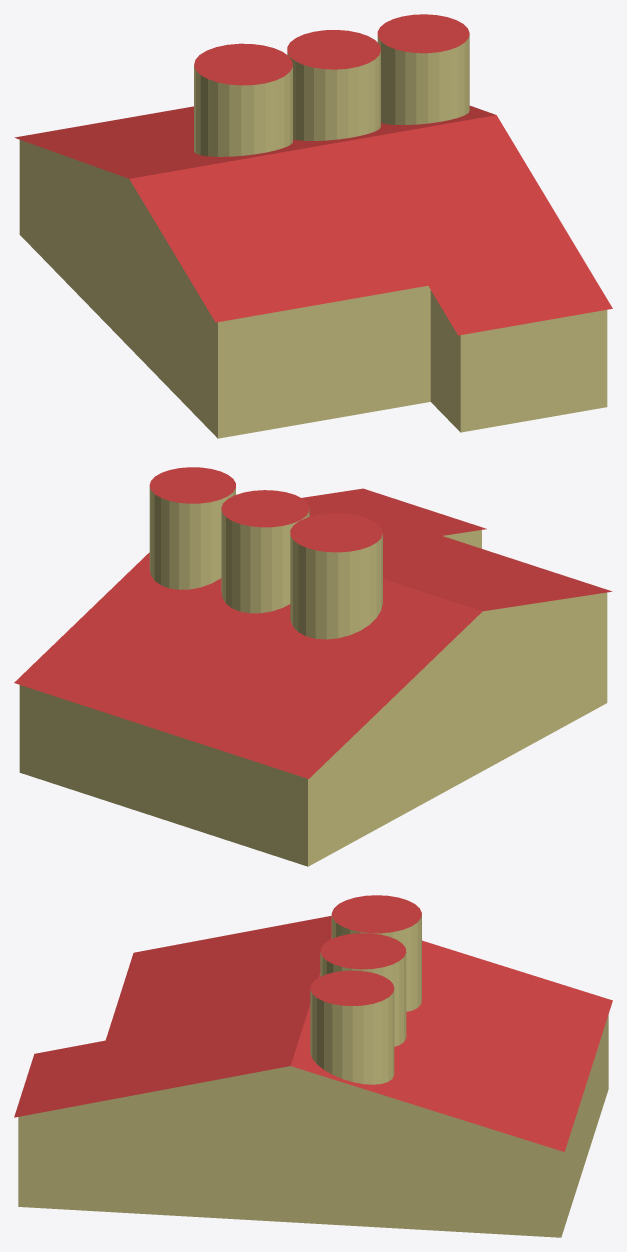
3 renders of one model, top to bottom at view 1: azimuth 30°, elevation 25°; view 2: azimuth 150°, elevation 25°; view 3: azimuth 270°, elevation 25°, orthographic. The views are drawn at different scales.
Bounding box in the file's own units: 26.97 × 38.15 × 15.34.
